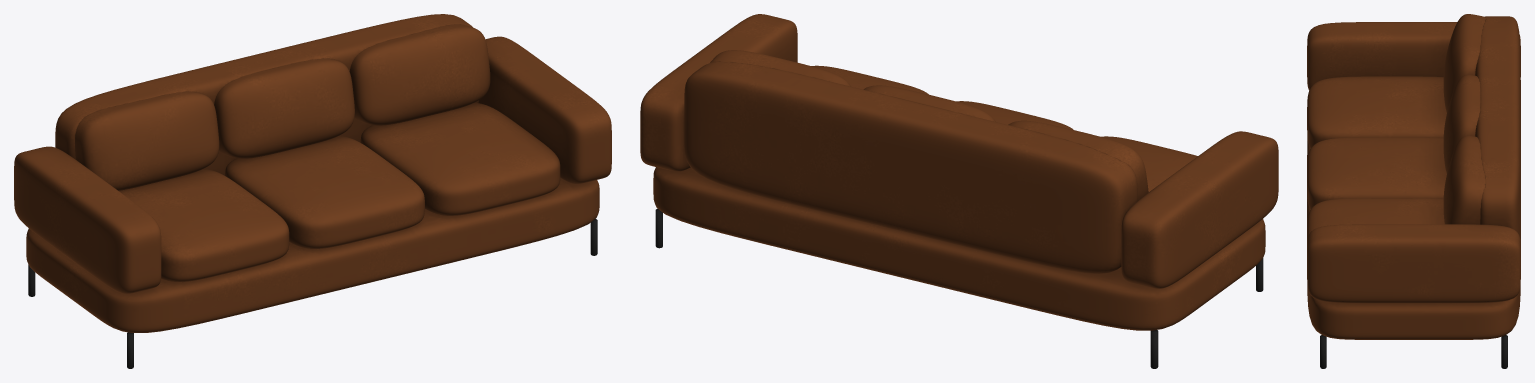
The model's file is leather-cognac.glb.
3 renders of one model, left to right at view 1: azimuth 30°, elevation 25°; view 2: azimuth 150°, elevation 25°; view 3: azimuth 270°, elevation 25°, orthographic. The views are drawn at different scales.
Visible parts, largest first — view 1: fabric_primary, metal_legs; view 2: fabric_primary, metal_legs; view 3: fabric_primary, metal_legs.
Boxes of the visible parts, x1,y1,x2,y2 form: fabric_primary: (14, 14, 611, 332); metal_legs: (28, 219, 597, 368); fabric_primary: (640, 14, 1278, 330); metal_legs: (655, 208, 1263, 368); fabric_primary: (1307, 14, 1520, 339); metal_legs: (1320, 335, 1507, 368).
Bounding box in the file's own units: 2.26 × 0.7997 × 0.92.
2 materials, 2 textured.
